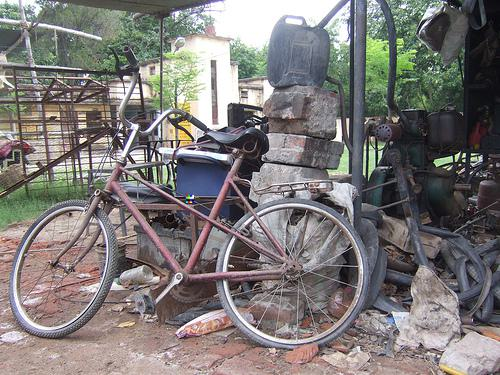car: (8, 45, 372, 353)
